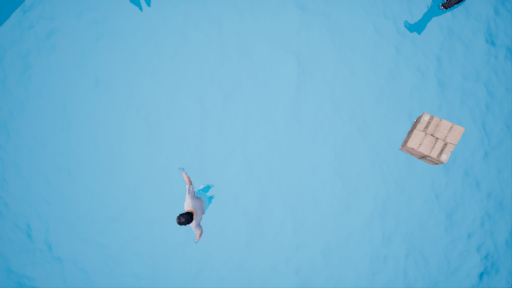person: (168, 165, 217, 243)
